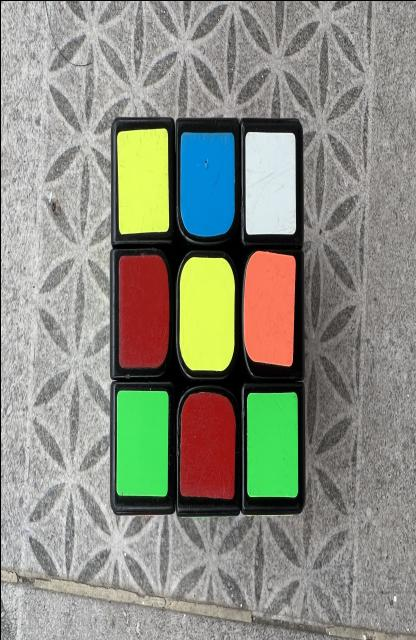Blue: (180, 132, 234, 237)
Green: (115, 390, 167, 495), (246, 392, 297, 497)
Orange: (243, 250, 295, 365)
Red: (179, 392, 235, 498), (118, 253, 168, 367)
White: (245, 132, 295, 233)
Yellow: (179, 255, 234, 370), (116, 127, 168, 233)
